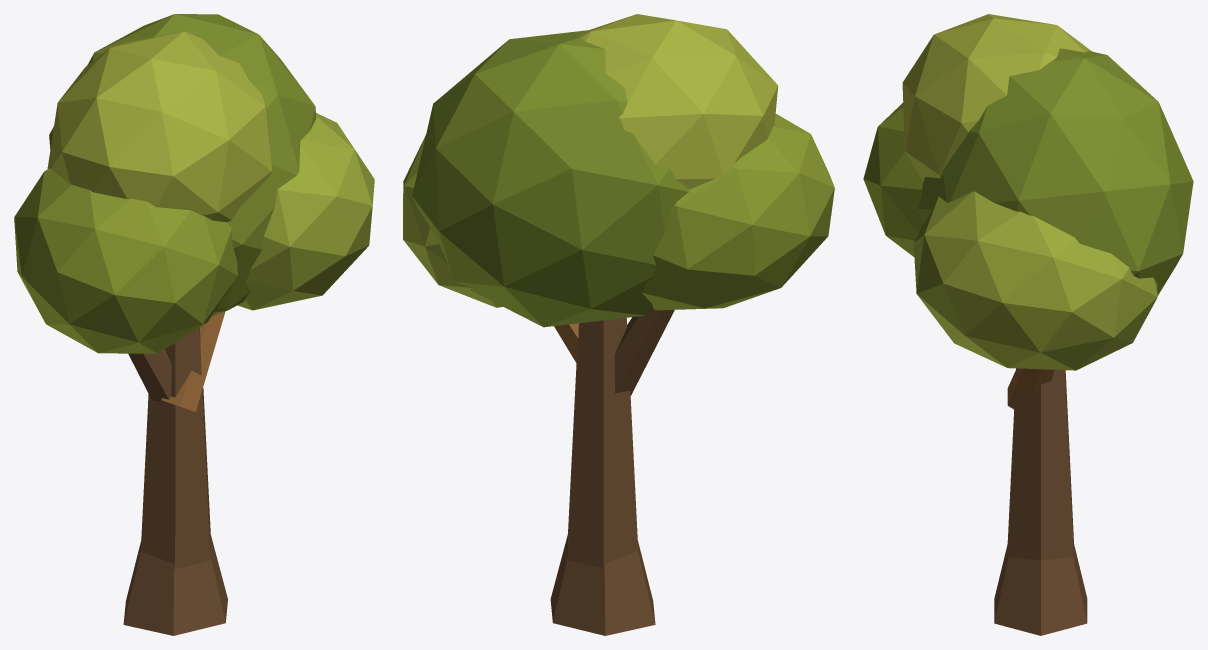
File: tree-canopy-11.gltf
3 views of the same model, side by side, from view 1: azimuth 30°, elevation 25°; view 2: azimuth 150°, elevation 25°; view 3: azimuth 270°, elevation 25° (orthographic). The views are drawn at different scales.
Visible parts, largest first — view 1: tree-canopy-11; view 2: tree-canopy-11; view 3: tree-canopy-11.
Part boxes in pixels (left/top/right/bottom): tree-canopy-11: left=14, top=14, right=374, bottom=635; tree-canopy-11: left=403, top=14, right=834, bottom=635; tree-canopy-11: left=863, top=14, right=1193, bottom=635.
Size of the model in its own units: 1.07 by 1.65 by 0.8653.
